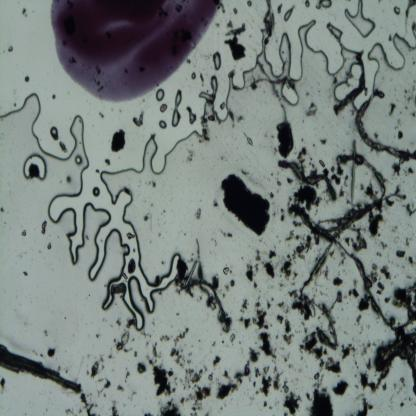Air bubble: (80, 123, 173, 338), (0, 86, 97, 264), (367, 20, 416, 90), (197, 67, 257, 124), (320, 22, 360, 90), (296, 16, 332, 81), (256, 25, 292, 80), (345, 0, 375, 38), (22, 152, 49, 181), (171, 89, 185, 128), (281, 82, 300, 107), (185, 104, 198, 124), (213, 51, 223, 72), (284, 6, 294, 20), (155, 87, 165, 101), (318, 0, 333, 9), (49, 127, 58, 138), (92, 186, 100, 198), (158, 120, 167, 129), (190, 70, 197, 80), (75, 156, 82, 165), (246, 1, 254, 7), (304, 0, 310, 7)
Background material: (172, 249, 232, 331), (0, 341, 83, 392), (274, 104, 298, 158), (147, 356, 175, 398), (393, 283, 416, 325), (234, 346, 260, 382), (292, 185, 321, 212), (310, 385, 334, 416), (252, 364, 275, 396), (299, 331, 324, 359), (106, 124, 128, 154), (291, 234, 313, 264), (259, 333, 284, 359), (250, 300, 271, 330), (383, 183, 408, 207), (277, 314, 295, 346), (182, 365, 204, 390), (351, 394, 375, 416), (112, 329, 134, 353), (352, 224, 369, 254), (291, 300, 316, 320), (360, 371, 382, 392), (170, 347, 192, 368), (215, 381, 239, 400), (282, 392, 301, 415), (366, 211, 382, 238), (336, 152, 355, 174), (160, 400, 183, 416), (271, 362, 283, 392), (199, 111, 211, 139), (332, 378, 350, 396), (326, 356, 343, 375), (340, 342, 356, 361), (402, 81, 416, 102), (279, 254, 290, 280), (131, 110, 146, 129), (365, 180, 377, 203), (358, 293, 371, 314), (406, 0, 416, 27), (173, 328, 188, 346), (378, 262, 392, 280), (194, 386, 210, 401), (263, 263, 277, 279), (96, 378, 110, 394), (243, 263, 254, 283), (244, 130, 255, 148), (370, 262, 379, 284), (403, 202, 416, 216), (90, 360, 100, 378), (38, 218, 48, 236), (313, 372, 324, 388), (306, 102, 317, 118), (376, 280, 386, 297), (348, 286, 360, 300), (112, 284, 126, 296), (335, 289, 346, 304), (391, 162, 402, 177), (362, 338, 373, 353), (136, 360, 147, 375), (323, 264, 332, 282), (110, 398, 119, 416), (180, 393, 194, 404), (57, 140, 68, 154), (128, 258, 137, 275), (387, 101, 396, 118), (62, 172, 74, 184), (152, 342, 160, 359), (80, 392, 88, 409), (46, 347, 58, 358), (86, 403, 96, 416), (220, 228, 233, 238), (65, 407, 79, 416), (186, 147, 194, 162), (140, 330, 152, 340), (333, 277, 345, 287), (331, 173, 341, 185), (192, 401, 204, 411), (213, 272, 220, 289), (123, 230, 136, 239), (126, 317, 135, 330), (281, 379, 289, 393), (240, 298, 248, 312), (354, 312, 362, 326), (160, 332, 172, 341), (306, 156, 315, 168), (303, 390, 312, 402), (285, 230, 294, 242), (213, 355, 222, 367), (337, 185, 344, 200), (194, 208, 202, 221), (404, 166, 414, 176), (395, 250, 406, 259), (222, 264, 231, 275), (208, 372, 215, 386), (339, 251, 346, 265), (254, 260, 261, 274), (394, 4, 402, 16), (298, 147, 306, 159), (366, 358, 373, 371), (279, 208, 286, 221), (243, 315, 250, 328), (0, 377, 6, 392), (289, 288, 298, 298), (128, 391, 138, 400), (45, 240, 53, 251), (228, 276, 236, 287), (154, 273, 161, 285), (400, 375, 407, 387), (405, 235, 412, 247), (344, 174, 350, 188), (143, 212, 150, 224), (93, 166, 102, 175), (291, 271, 300, 280), (269, 249, 276, 260), (159, 103, 168, 111), (124, 371, 130, 383), (293, 219, 303, 226), (252, 280, 259, 290), (343, 236, 350, 246), (284, 352, 291, 362), (84, 232, 90, 243), (397, 130, 403, 141), (332, 75, 338, 86), (319, 358, 324, 371), (103, 157, 111, 165), (224, 370, 231, 379), (116, 385, 125, 392), (271, 146, 278, 155), (209, 235, 216, 244), (230, 332, 236, 342), (408, 255, 414, 265), (20, 228, 26, 238), (330, 248, 336, 258), (257, 249, 262, 261), (167, 369, 174, 377), (319, 138, 327, 145), (189, 411, 200, 416), (0, 204, 5, 215), (262, 399, 268, 408), (318, 159, 324, 168), (382, 383, 388, 392), (99, 352, 104, 362), (380, 242, 387, 249), (22, 269, 28, 277), (278, 300, 284, 308), (268, 192, 274, 200), (330, 165, 336, 173), (360, 182, 365, 191), (388, 33, 393, 42), (392, 226, 398, 233), (374, 252, 381, 258), (277, 179, 282, 187), (173, 376, 177, 386), (285, 306, 290, 314), (288, 176, 293, 184), (354, 384, 360, 390), (410, 112, 416, 118), (134, 349, 138, 358), (109, 354, 115, 360), (85, 353, 91, 359), (65, 366, 70, 373), (267, 302, 272, 309), (203, 365, 208, 372), (43, 330, 48, 337), (33, 349, 38, 356), (323, 349, 328, 356), (215, 199, 219, 207), (144, 412, 152, 416), (152, 180, 156, 188), (398, 118, 402, 126), (94, 332, 100, 337), (414, 94, 416, 109), (282, 411, 288, 416), (385, 297, 390, 303), (158, 290, 163, 296), (98, 377, 104, 382), (58, 365, 62, 372), (240, 315, 244, 322), (408, 397, 413, 402), (212, 341, 216, 347), (354, 278, 357, 286), (304, 327, 308, 333), (400, 402, 404, 408), (102, 364, 106, 370), (145, 341, 149, 347), (288, 365, 294, 369), (79, 408, 83, 414), (394, 382, 397, 389), (375, 133, 378, 140), (40, 353, 44, 358), (354, 373, 358, 378), (312, 142, 316, 147), (394, 125, 399, 129), (118, 321, 122, 326), (162, 209, 166, 214), (305, 92, 310, 96), (162, 259, 165, 265), (103, 392, 106, 398), (206, 412, 210, 416), (377, 0, 381, 4), (300, 138, 304, 142), (405, 106, 408, 111), (355, 360, 358, 365), (413, 61, 416, 66), (95, 404, 98, 408), (176, 311, 179, 315), (356, 365, 359, 369), (220, 407, 224, 410), (87, 370, 89, 376), (125, 367, 128, 370), (65, 316, 67, 320), (222, 340, 224, 343), (90, 393, 92, 396), (411, 57, 414, 59), (99, 414, 100, 416)
Cellulose filter fibre: (295, 208, 416, 330), (299, 148, 391, 300), (356, 89, 414, 164), (278, 160, 336, 201), (374, 325, 416, 381), (332, 54, 366, 116), (313, 305, 339, 350)
Fragment: (220, 171, 270, 236)
Pen: (48, 0, 222, 100)
